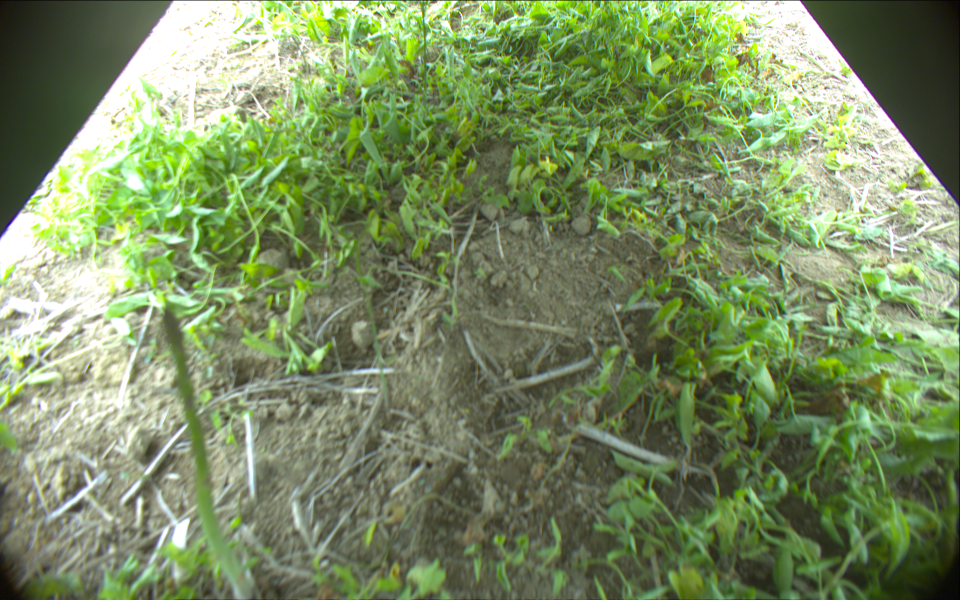aspa: (160, 308, 257, 600), (420, 1, 429, 77)
